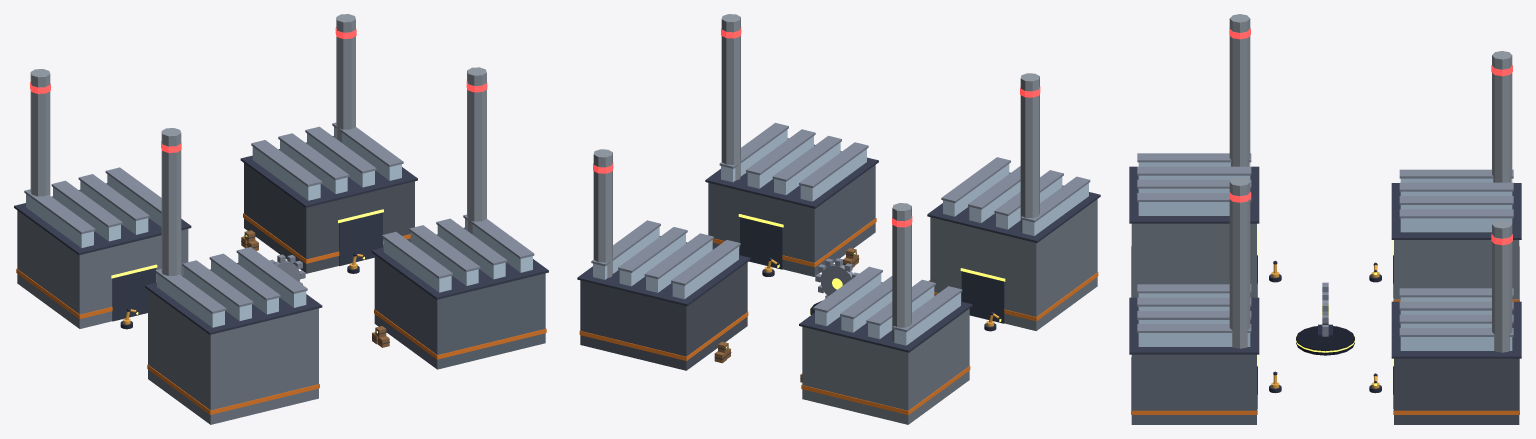
3 renders of one model, left to right at view 1: azimuth 30°, elevation 25°; view 2: azimuth 150°, elevation 25°; view 3: azimuth 270°, elevation 25°, orthographic. The views are drawn at different scales.
Parts seen in each view (by area): view 1: district_city_taller.lod1; view 2: district_city_taller.lod1; view 3: district_city_taller.lod1.
Part boxes in pixels (x1,y1,x2,y2): district_city_taller.lod1: (14,14,548,424); district_city_taller.lod1: (577,14,1100,424); district_city_taller.lod1: (1129,14,1521,424).
Bounding box in the file's own units: 34.4 × 24.21 × 34.4.
